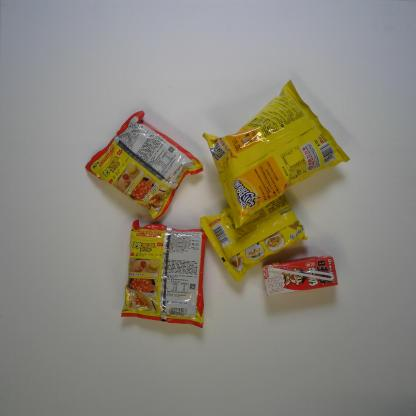Instant Noodles: (84, 110, 204, 221), (200, 192, 308, 283), (120, 218, 208, 329)
Milk: (261, 254, 338, 297)
Puffed Food: (202, 78, 350, 230)
